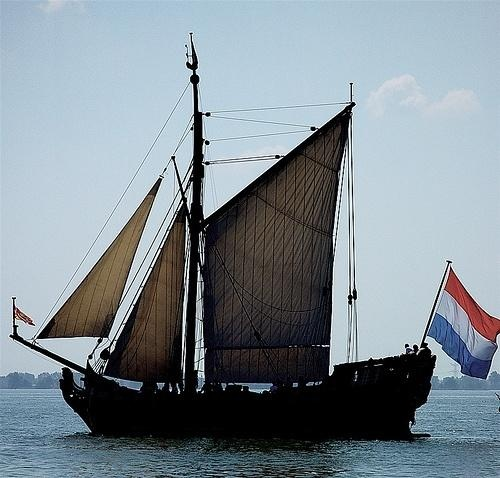boat: (11, 32, 436, 445)
